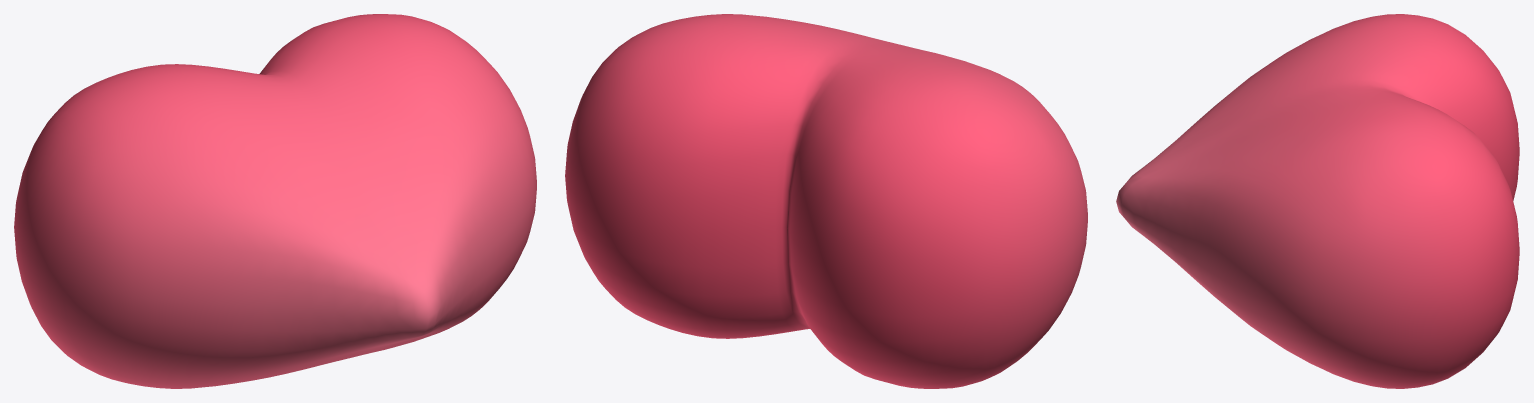
The model's file is m_Heart_Pink.fbx.
3 views of the same model, side by side, from view 1: azimuth 30°, elevation 25°; view 2: azimuth 150°, elevation 25°; view 3: azimuth 270°, elevation 25° (orthographic). The views are drawn at different scales.
Parts seen in each view (by area): view 1: Cube; view 2: Cube; view 3: Cube.
Boxes of the visible parts, box(x1,y1,x2,y2) form: Cube: box(14, 14, 536, 388); Cube: box(565, 14, 1087, 388); Cube: box(1116, 14, 1519, 388).
Bounding box in the file's own units: 14.39 × 8.45 × 12.05.
1 material, 1 textured.
